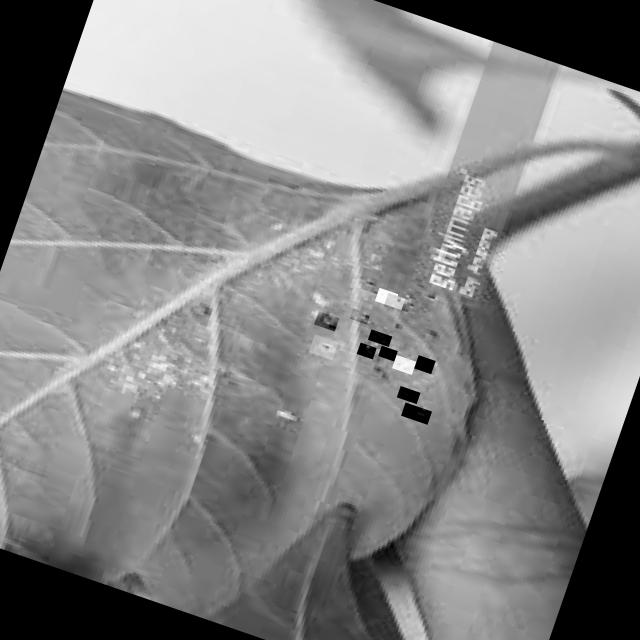scale_insect: (307, 334, 337, 359), (400, 402, 431, 424), (312, 310, 338, 330), (390, 354, 414, 374), (366, 328, 391, 346), (412, 354, 434, 374), (374, 287, 396, 307), (395, 386, 419, 404), (382, 292, 403, 310), (355, 342, 375, 359), (348, 308, 369, 324), (376, 345, 396, 361)
